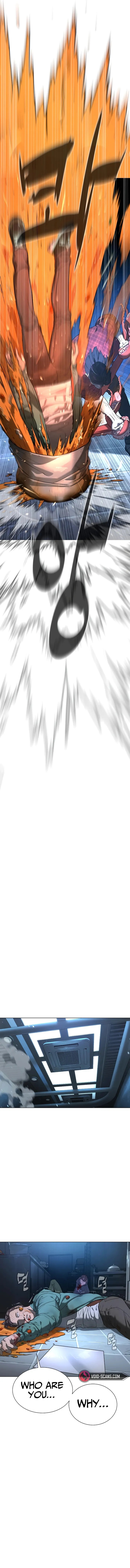bubbles: (9, 1353, 120, 1428)
